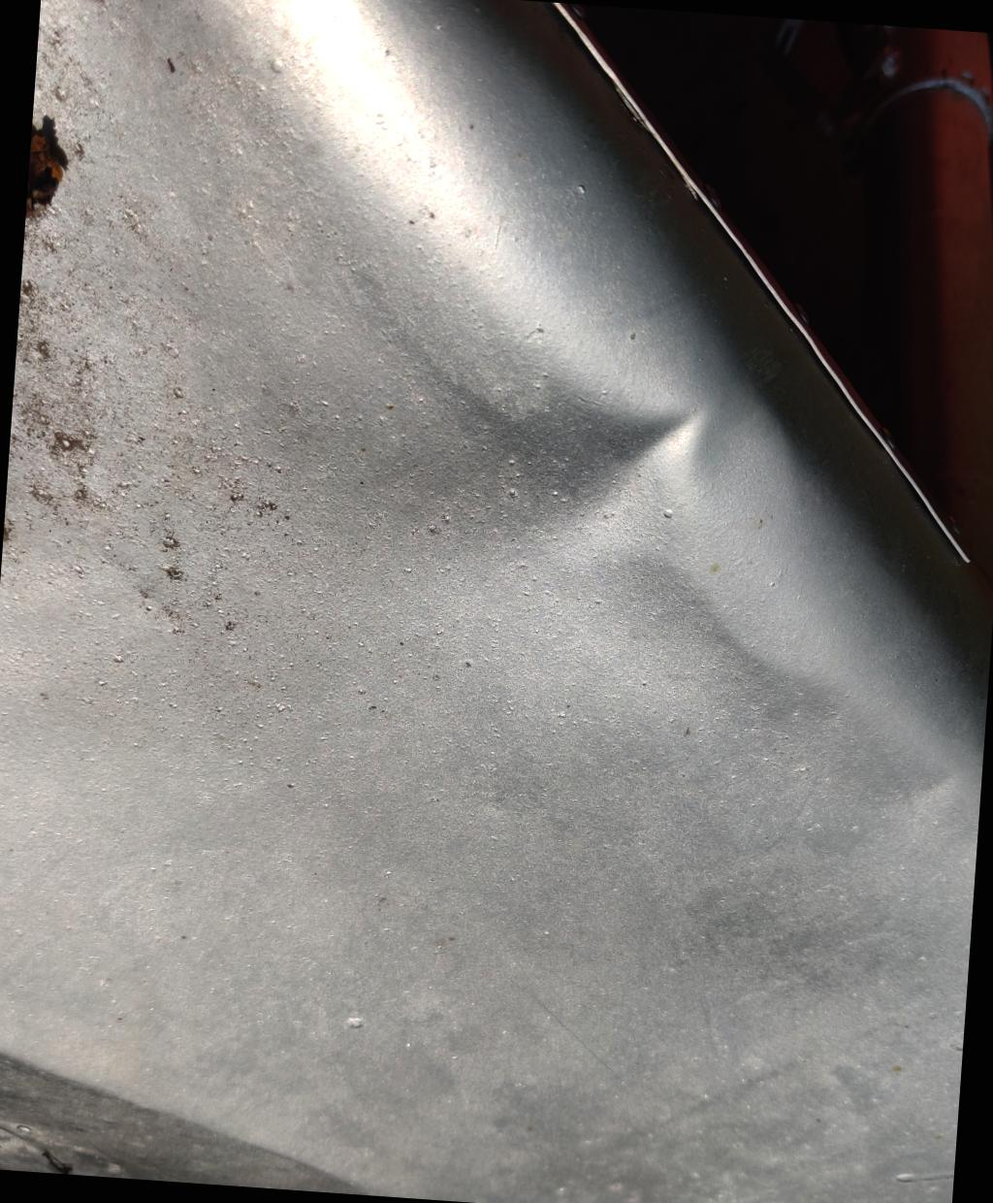dent: (429, 316, 736, 663)
